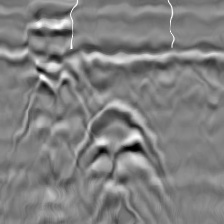Utility: (74, 98, 172, 222), (21, 47, 77, 124)
